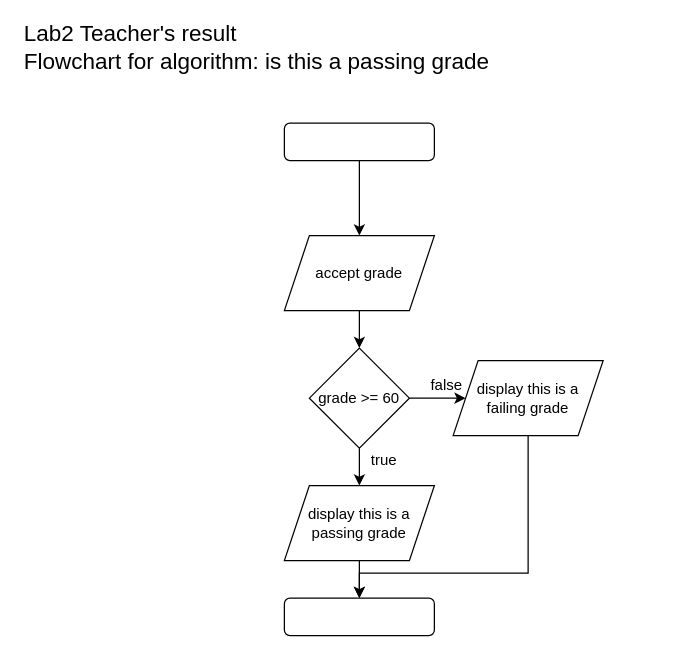
This 680x658 diagram has some shape labels left out. The box of each missing label's shape, as (x1, y1, x2, y2) in pixels:
end: (283, 597, 434, 636)
start: (283, 122, 434, 161)
